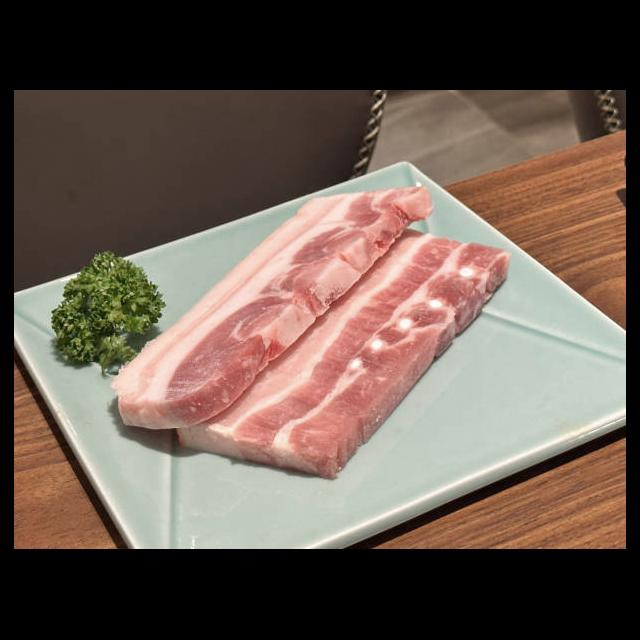pork: (250, 317, 399, 475), (355, 230, 504, 327), (271, 190, 420, 267), (119, 345, 244, 430), (206, 262, 317, 348)
